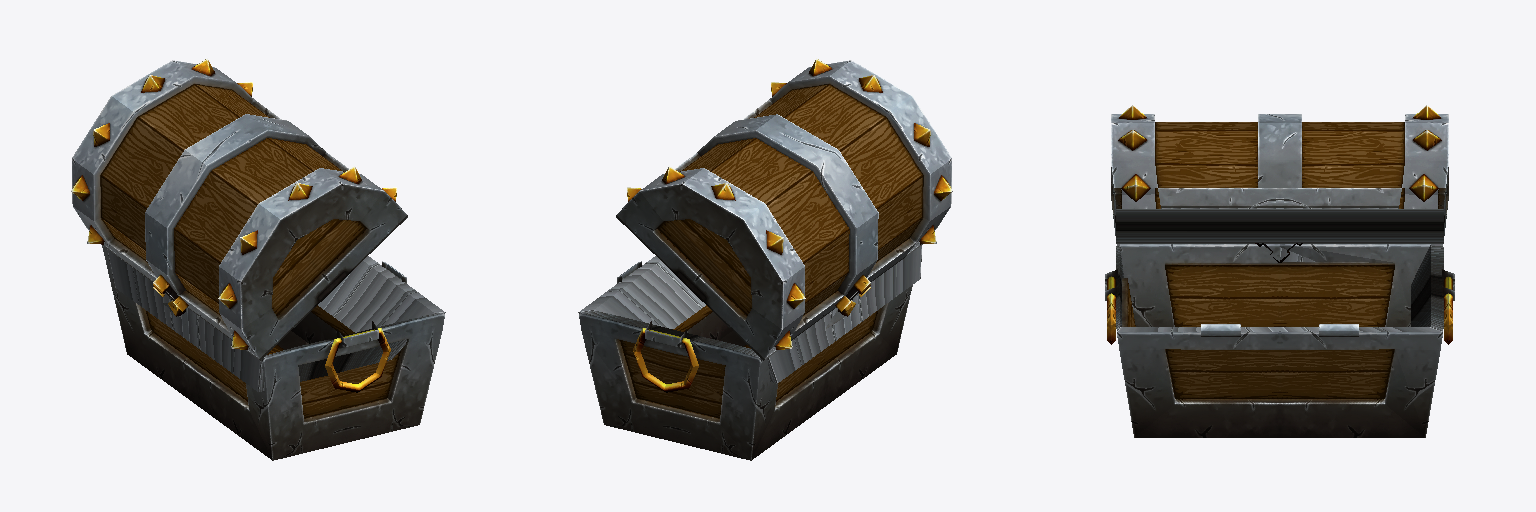
3 views of the same model, side by side, from view 1: azimuth 30°, elevation 25°; view 2: azimuth 150°, elevation 25°; view 3: azimuth 270°, elevation 25° (orthographic).
Parts seen in each view (by area): view 1: Chest06_Chest-open; view 2: Chest06_Chest-open; view 3: Chest06_Chest-open.
Boxes of the visible parts, x1=… form: Chest06_Chest-open: x1=71, y1=58, x2=445, y2=460; Chest06_Chest-open: x1=578, y1=58, x2=952, y2=460; Chest06_Chest-open: x1=1105, y1=105, x2=1454, y2=437.
Size of the model in its own units: 0.7986 by 0.9431 by 1.09.
1 materials, 1 textured.